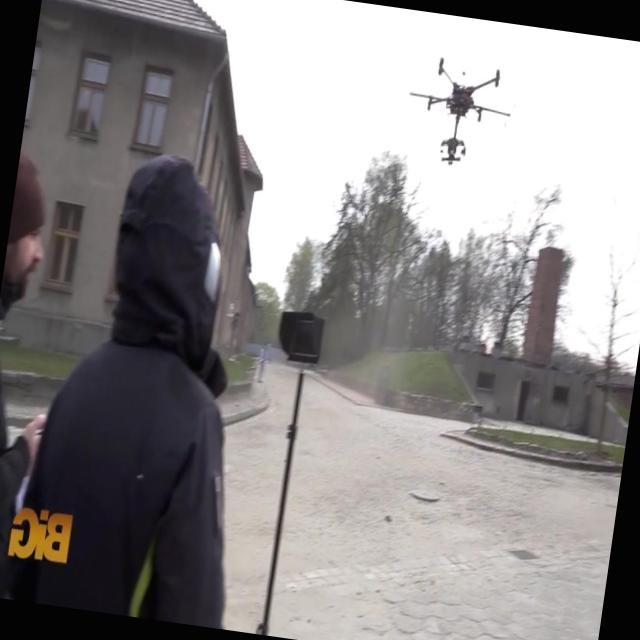drone: (399, 55, 518, 175)
